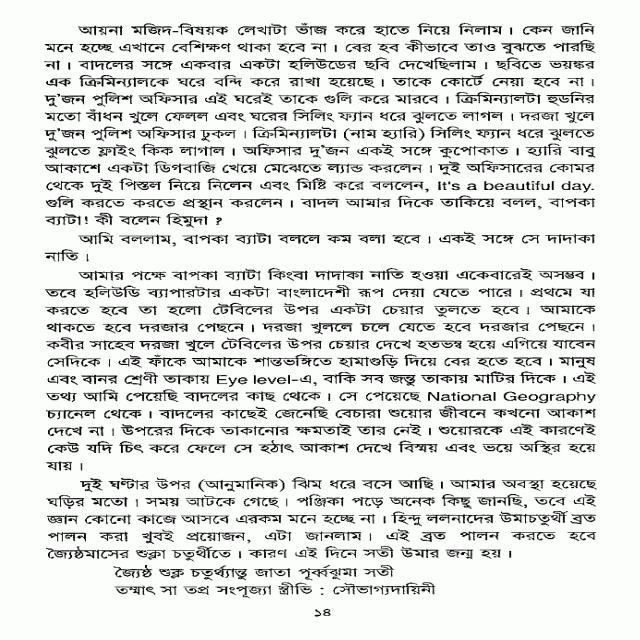page number: (295, 606, 353, 621)
paragraph: (42, 20, 603, 229), (42, 267, 604, 474), (35, 476, 607, 564), (33, 227, 606, 267), (102, 581, 442, 600), (103, 564, 403, 582)
